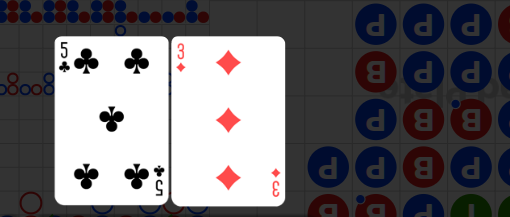3D: (175, 42, 187, 74)
5C: (58, 41, 72, 75)
